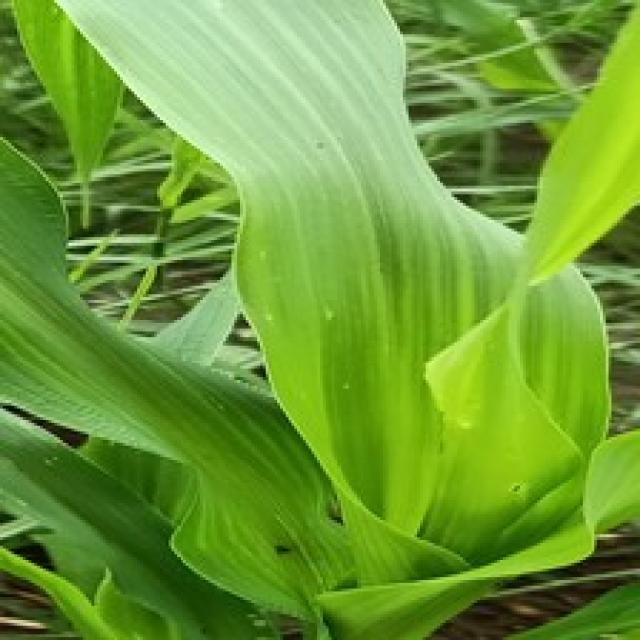Corn: (0, 0, 637, 637), (0, 94, 349, 632), (520, 0, 637, 289)
